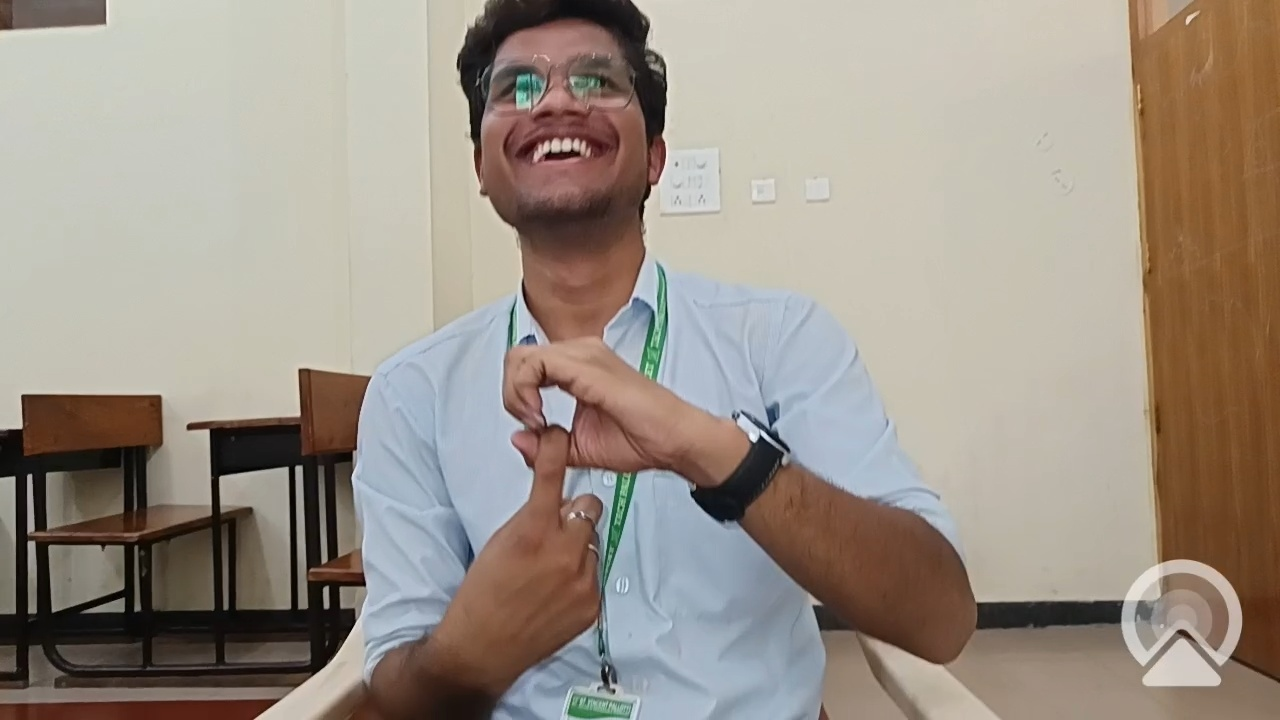Q: (408, 305, 776, 659)
